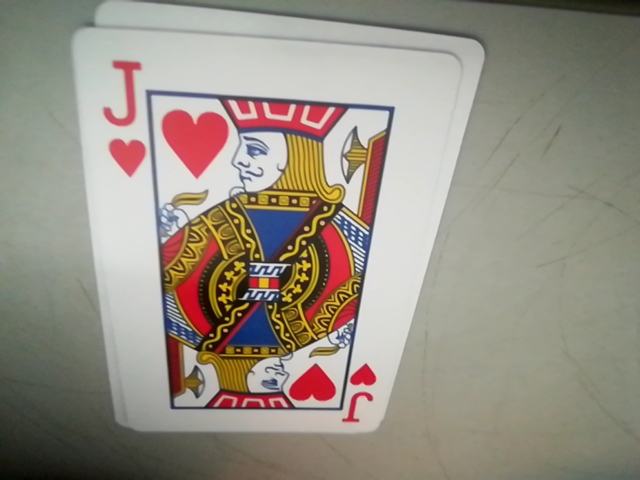hx j: (100, 54, 147, 178), (338, 362, 379, 426)
